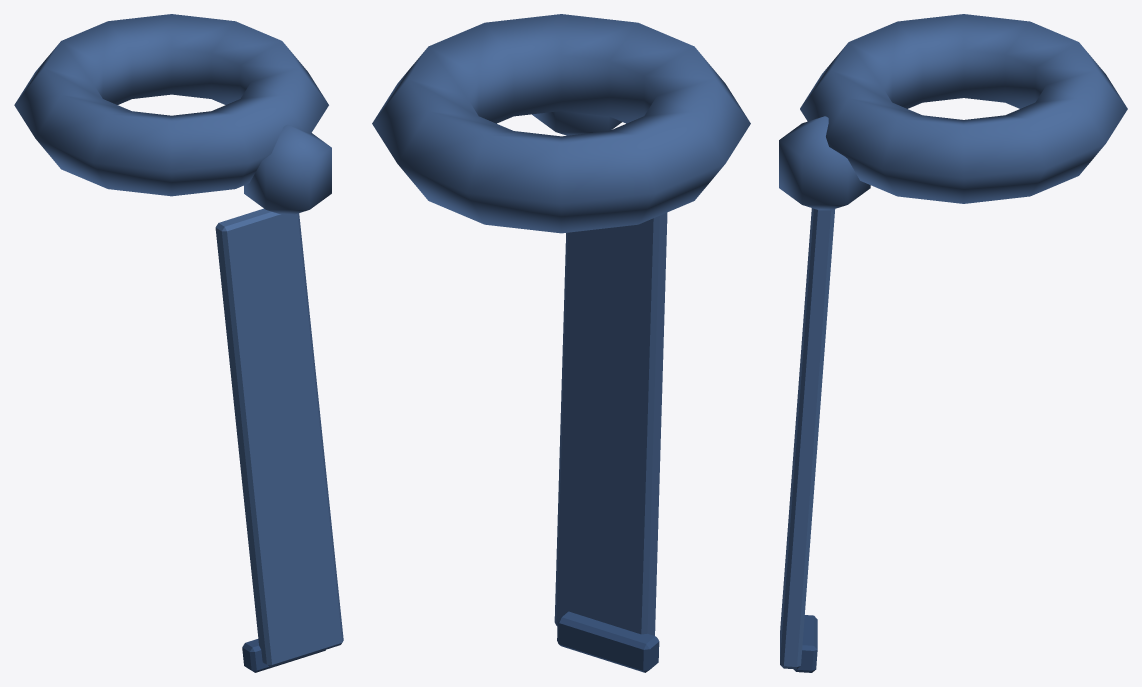
File: npc_scarf_blue.glb
3 renders of one model, left to right at view 1: azimuth 30°, elevation 25°; view 2: azimuth 150°, elevation 25°; view 3: azimuth 270°, elevation 25°, orthographic. The views are drawn at different scales.
Visible parts, largest first — view 1: part.npc_scarf_blue; view 2: part.npc_scarf_blue; view 3: part.npc_scarf_blue.
Boxes of the visible parts, x1=… form: part.npc_scarf_blue: x1=14, y1=14, x2=343, y2=672; part.npc_scarf_blue: x1=372, y1=14, x2=750, y2=672; part.npc_scarf_blue: x1=779, y1=14, x2=1127, y2=672.
Size of the model in its own units: 0.248 by 0.4759 by 0.2636.
